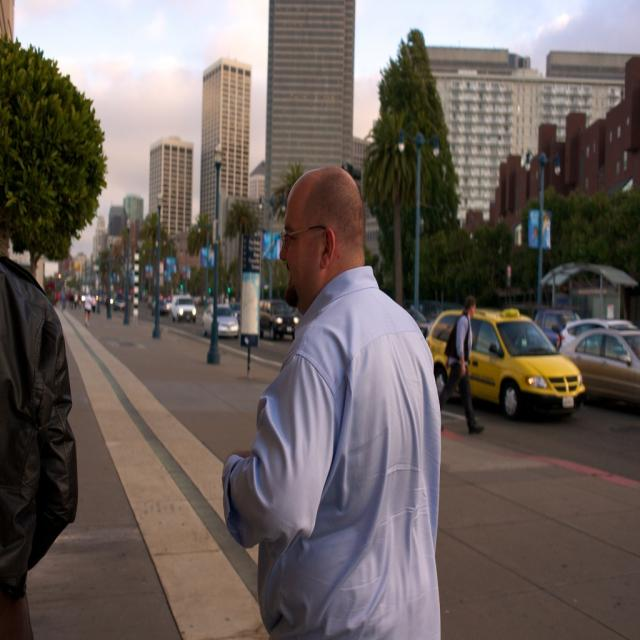other: (440, 304, 589, 428), (560, 329, 640, 405), (556, 317, 638, 351), (260, 298, 299, 340), (201, 301, 239, 339), (150, 298, 168, 314), (114, 293, 125, 311), (229, 301, 239, 320), (164, 296, 171, 311), (147, 294, 153, 310), (104, 294, 112, 305)
